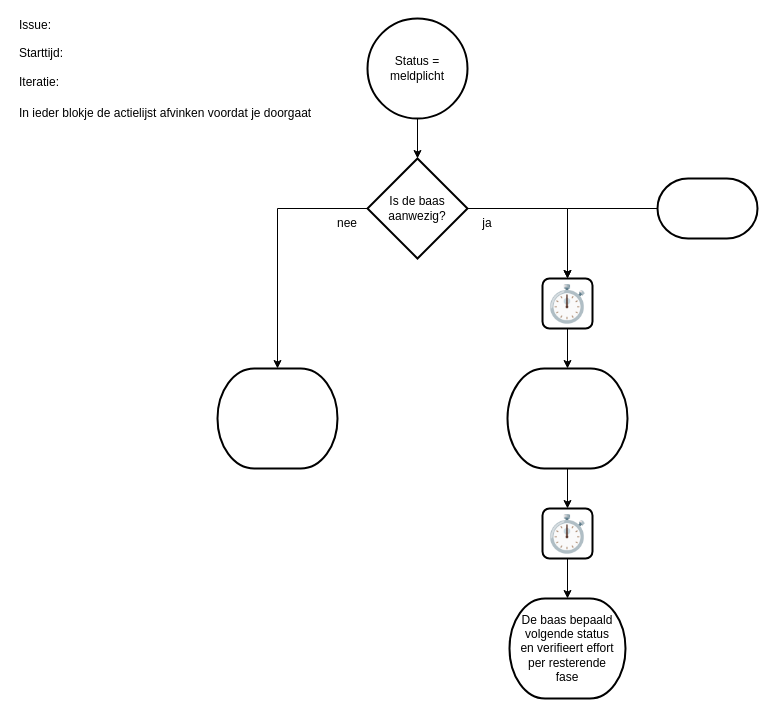
This 775x716 diagram has some shape labels left out. The shapes that lost their labels are listed below. From the top down, each one's centre as x and y in pixels, then its label:
(x=707, y=208): Na dat de baas weer aanwezig is
(x=277, y=418): Meteen meldplicht wanneer de baas aanwezig is
(x=567, y=418): Overleg resultaten voor goedkeuring vervolg
